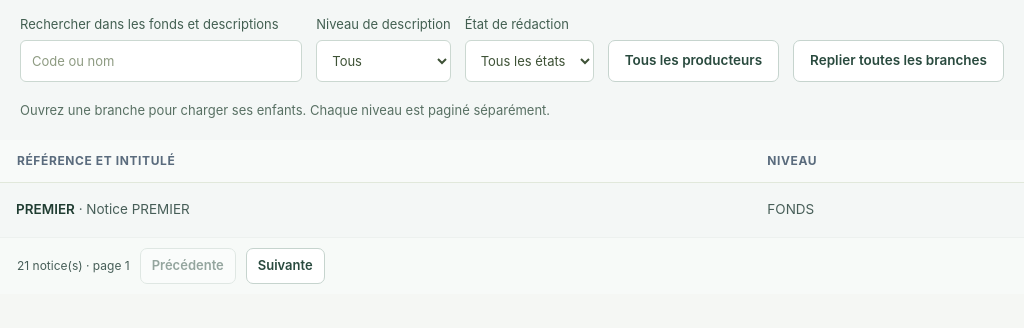
recherche au-delà de la page courante et conserve le chemin du résultat
This screenshot has width=1024, height=328.
expect the text "Notice PREMIER" is shown: met, box left=86, top=201, right=190, bottom=217
Step 1. Click the button with aria-label "Page suivante pour fonds et descriptions" → coordinates (285, 266), box left=246, top=248, right=325, bottom=284
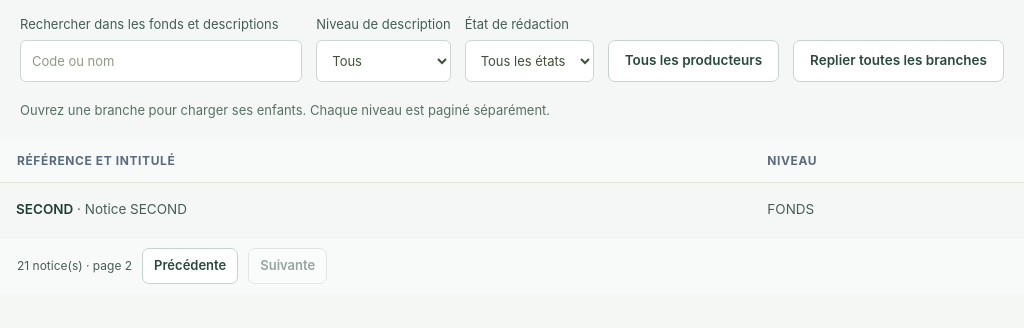
expect the text "Notice SECOND" is shown: met, box left=85, top=201, right=187, bottom=217
Step 2. Type "piece" into the search field → coordinates (161, 61), box left=20, top=40, right=302, bottom=82
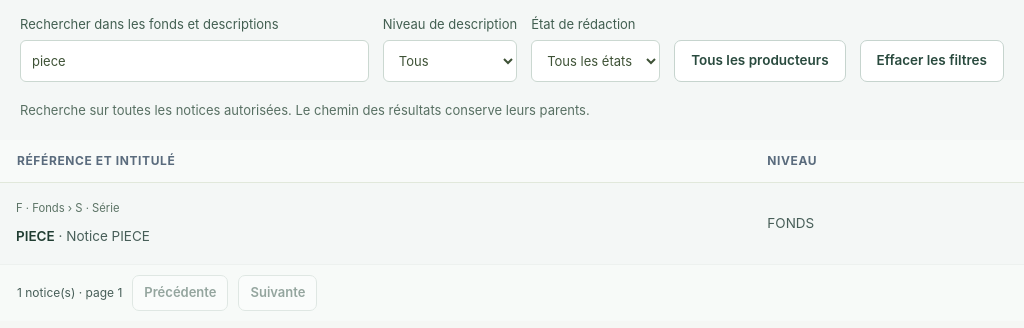
expect the text "Notice PIECE" is shown: met, box left=66, top=228, right=150, bottom=244
expect the text named "Chemin de la notice" reads "F · Fonds › S · Série": met, box left=16, top=201, right=120, bottom=215
Step 3. Click the button "Effacer les filtres" → coordinates (932, 61), box left=860, top=40, right=1004, bottom=82
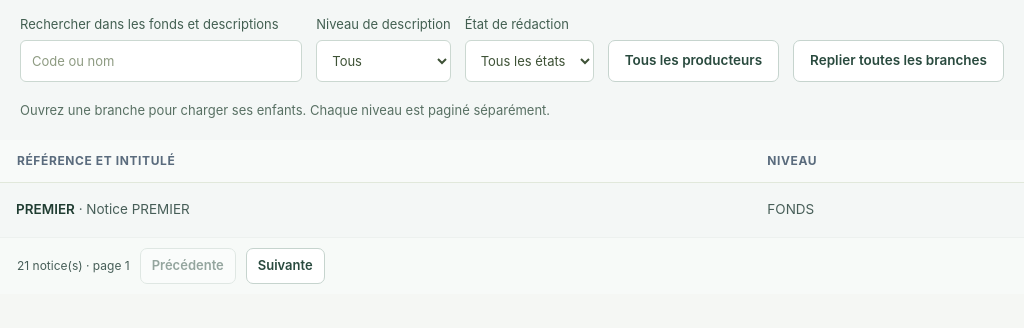
expect the text "Notice PREMIER" is shown: met, box left=86, top=201, right=190, bottom=217
